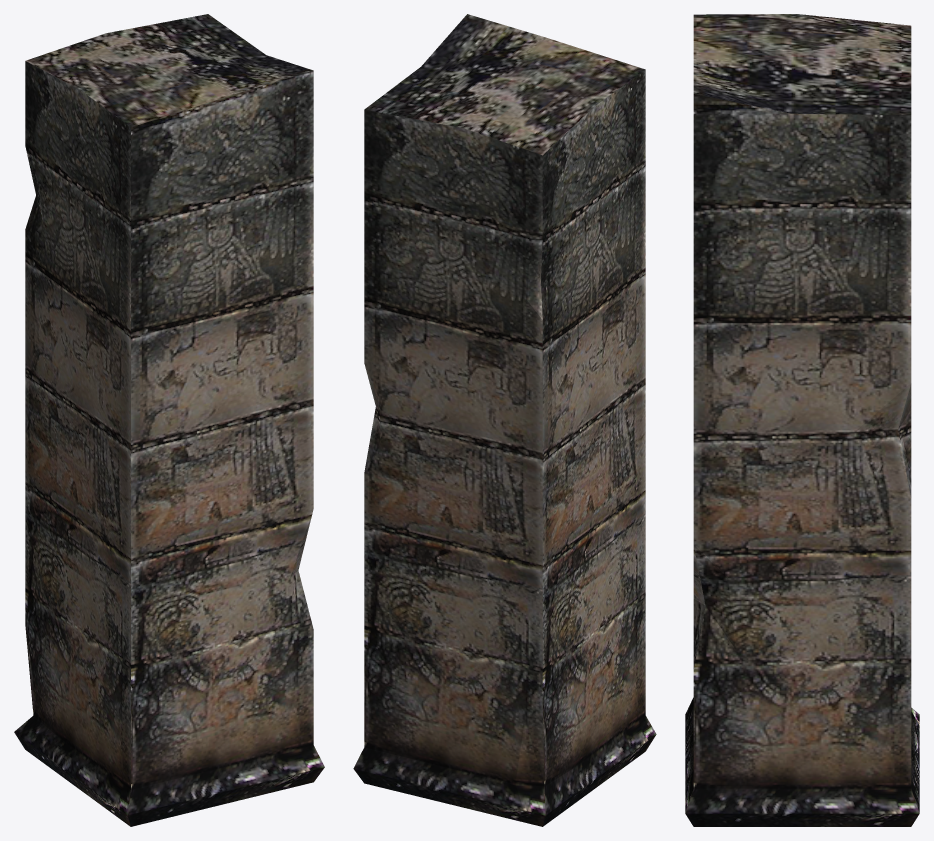
File: Desert_obj02.FBX
The picture shows the model from 3 angles, left to right: view 1: azimuth 30°, elevation 25°; view 2: azimuth 150°, elevation 25°; view 3: azimuth 270°, elevation 25°; orthographic projection. The views are drawn at different scales.
Visible parts, largest first — view 1: 03; view 2: 03; view 3: 03.
Boxes of the visible parts, x1,y1,x2,y2 form: 03: (14, 14, 324, 826); 03: (353, 14, 656, 826); 03: (685, 14, 919, 826).
Bounding box in the file's own units: 115 × 398 × 115.
Materials: 1 (1 with a texture image).
